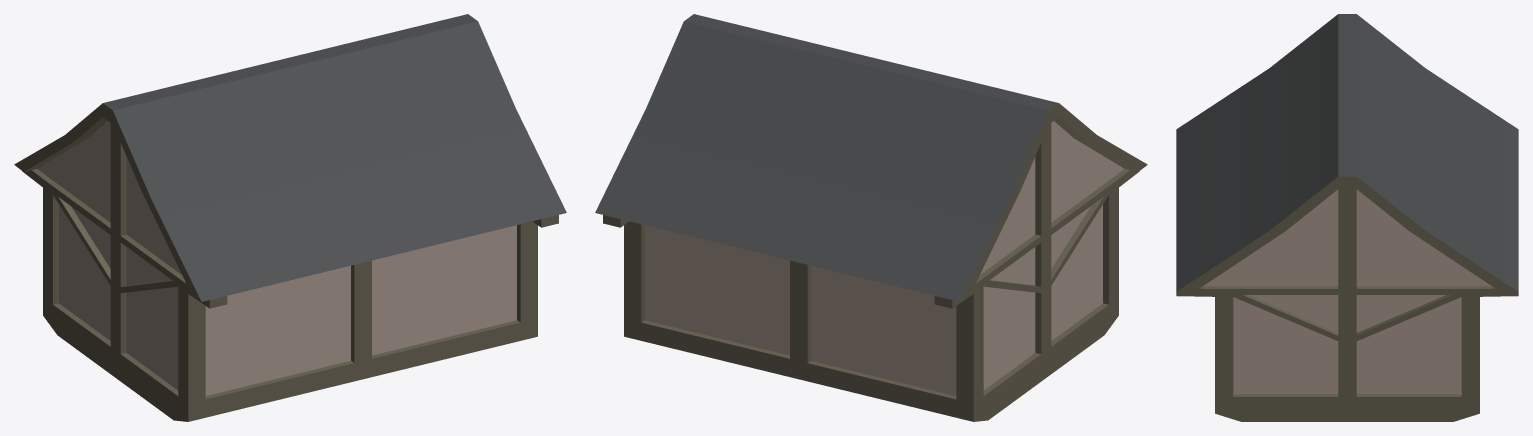
Rendered from Roof.fbx.
The picture shows the model from 3 angles, left to right: view 1: azimuth 30°, elevation 25°; view 2: azimuth 150°, elevation 25°; view 3: azimuth 270°, elevation 25°; orthographic projection. The views are drawn at different scales.
Visible parts, largest first — view 1: Roof; view 2: Roof; view 3: Roof.
Part boxes in pixels (<box>): Roof: <box>14,14,566,421</box>; Roof: <box>595,14,1147,421</box>; Roof: <box>1176,14,1518,421</box>.
Bounding box in the file's own units: 627 × 558 × 448.
